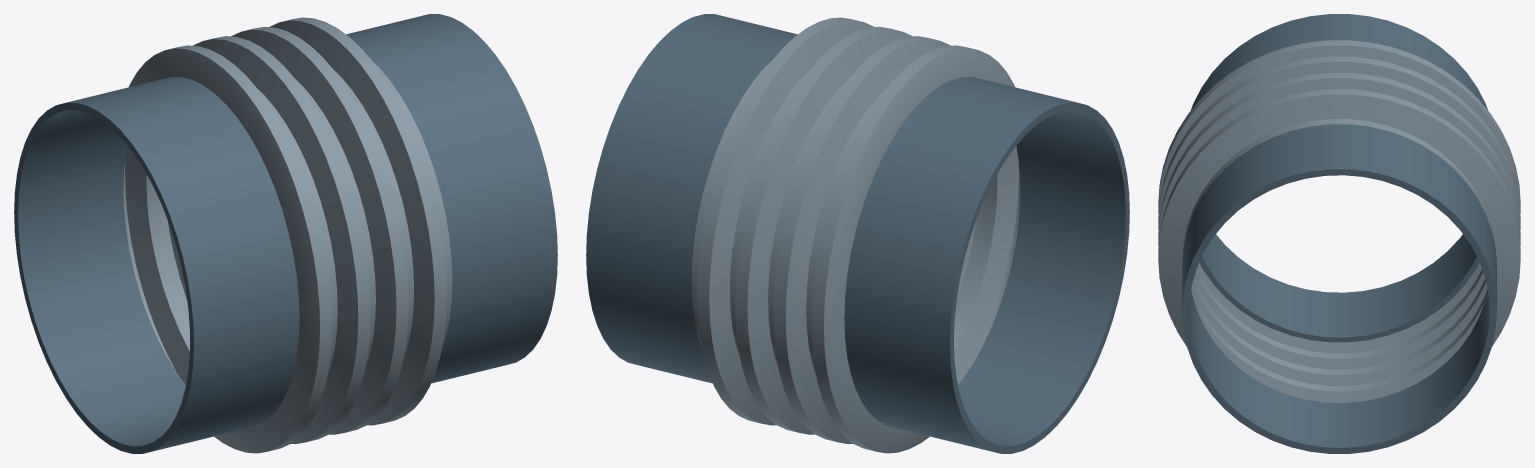
Rendered from silf-dn350-L440-D377.glb.
3 renders of one model, left to right at view 1: azimuth 30°, elevation 25°; view 2: azimuth 150°, elevation 25°; view 3: azimuth 270°, elevation 25°, orthographic. The views are drawn at different scales.
Visible parts, largest first — view 1: patrubok_1, prokladka_silfon_1, patrubok_2; view 2: patrubok_1, prokladka_silfon_1, patrubok_2; view 3: prokladka_silfon_1, patrubok_2, patrubok_1.
Part boxes in pixels (x1,y1,x2,y2): patrubok_1: (14,77,299,453); prokladka_silfon_1: (123,17,452,453); patrubok_2: (346,14,557,383); patrubok_1: (844,77,1129,453); prokladka_silfon_1: (691,17,1020,453); patrubok_2: (586,14,797,383); prokladka_silfon_1: (1158,40,1520,402); patrubok_2: (1182,124,1496,453); patrubok_1: (1191,14,1487,342).
Bounding box in the file's own units: 440 × 434 × 434.
